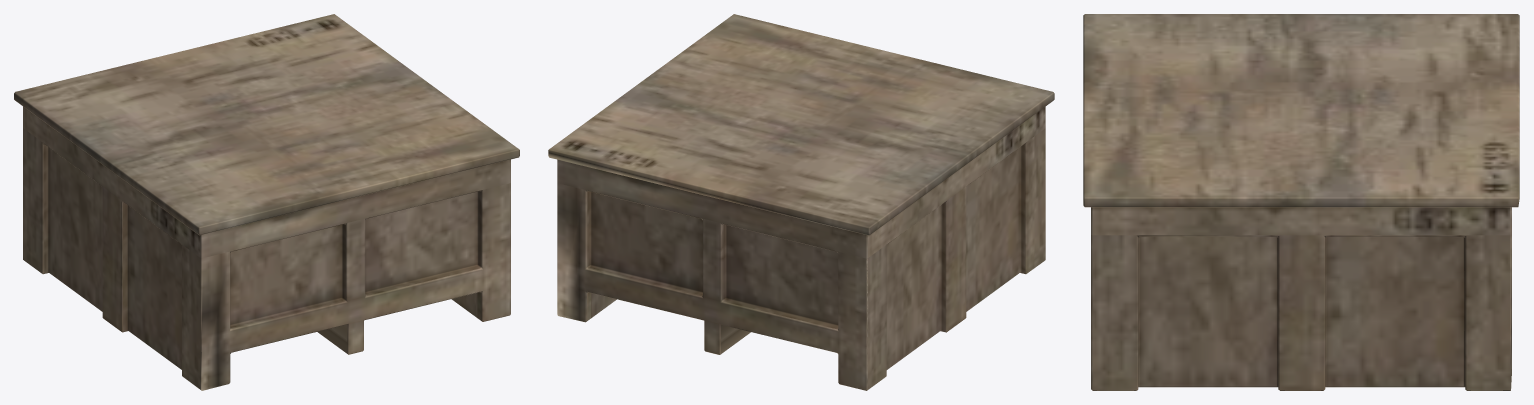
The model's file is wooden_crate_b_green.glb.
The picture shows the model from 3 angles, left to right: view 1: azimuth 30°, elevation 25°; view 2: azimuth 150°, elevation 25°; view 3: azimuth 270°, elevation 25°; orthographic projection. The views are drawn at different scales.
Visible parts, largest first — view 1: wooden_crate_b_green; view 2: wooden_crate_b_green; view 3: wooden_crate_b_green.
Part boxes in pixels (x1,y1,x2,y2): wooden_crate_b_green: [14, 14, 519, 390]; wooden_crate_b_green: [548, 14, 1054, 390]; wooden_crate_b_green: [1083, 14, 1519, 390].
Bounding box in the file's own units: 1.04 × 0.5168 × 1.04.
1 material, 1 textured.
